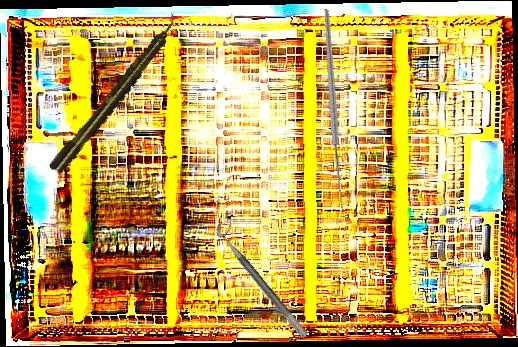Fixation Ring: (212, 215, 318, 340)
Handpiece: (47, 12, 185, 177)
Hook Surgical: (248, 8, 429, 215)
